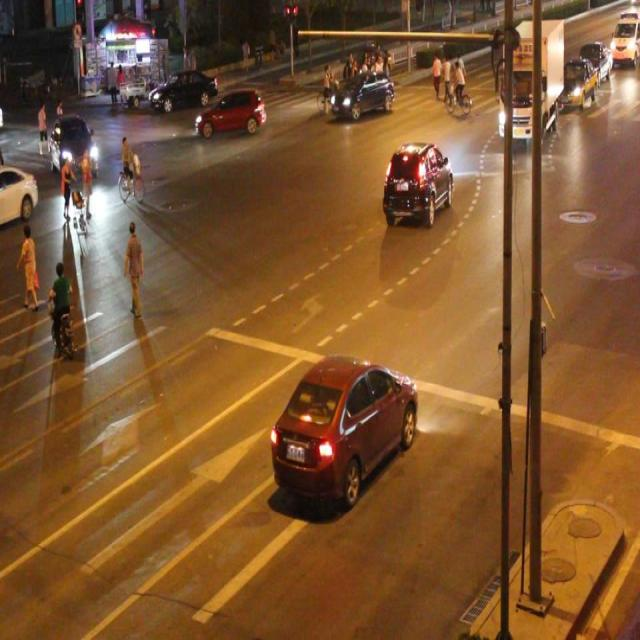bus: (498, 17, 564, 144)
car: (268, 353, 416, 498), (385, 141, 451, 222), (193, 89, 265, 140), (328, 70, 392, 120), (49, 115, 99, 178), (150, 68, 217, 109), (1, 164, 38, 225)
